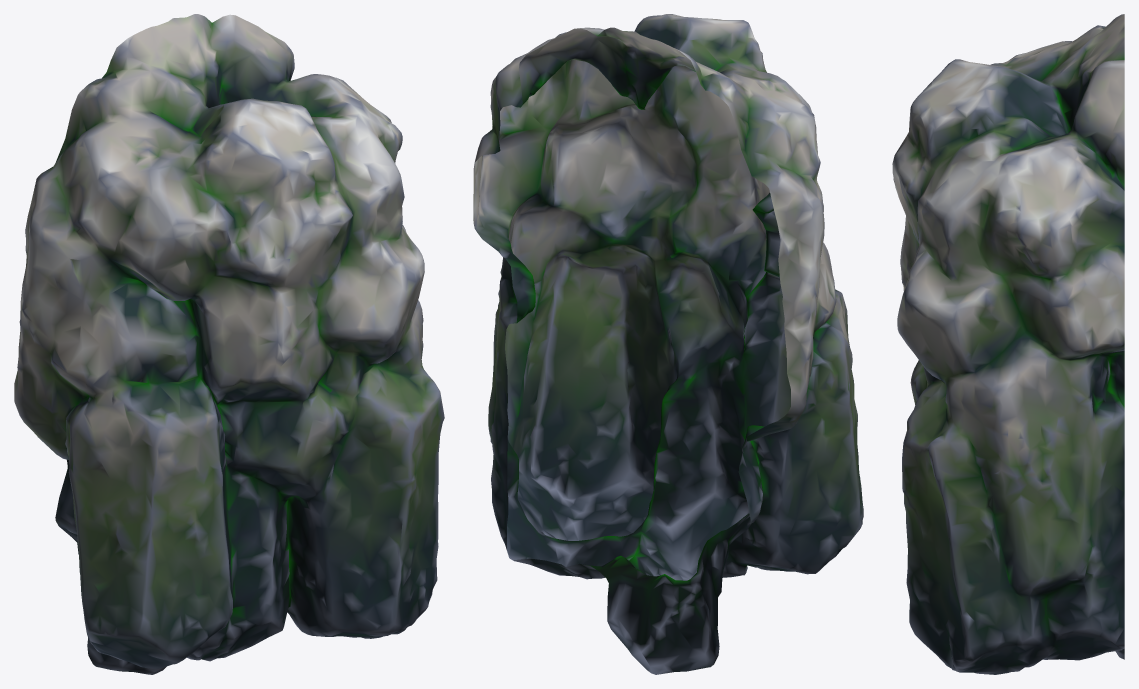
File: M_Cliff_Rock_T8.fbx
The picture shows the model from 3 angles, left to right: view 1: azimuth 30°, elevation 25°; view 2: azimuth 150°, elevation 25°; view 3: azimuth 270°, elevation 25°; orthographic projection. The views are drawn at different scales.
Visible parts, largest first — view 1: M_Cliff_Rock_T8; view 2: M_Cliff_Rock_T8; view 3: M_Cliff_Rock_T8.
Boxes of the visible parts, left/top/right/bottom form: M_Cliff_Rock_T8: left=14, top=14, right=444, bottom=674; M_Cliff_Rock_T8: left=473, top=14, right=863, bottom=674; M_Cliff_Rock_T8: left=892, top=14, right=1124, bottom=674.
Size of the model in its own units: 12.12 by 21.17 by 6.95.
